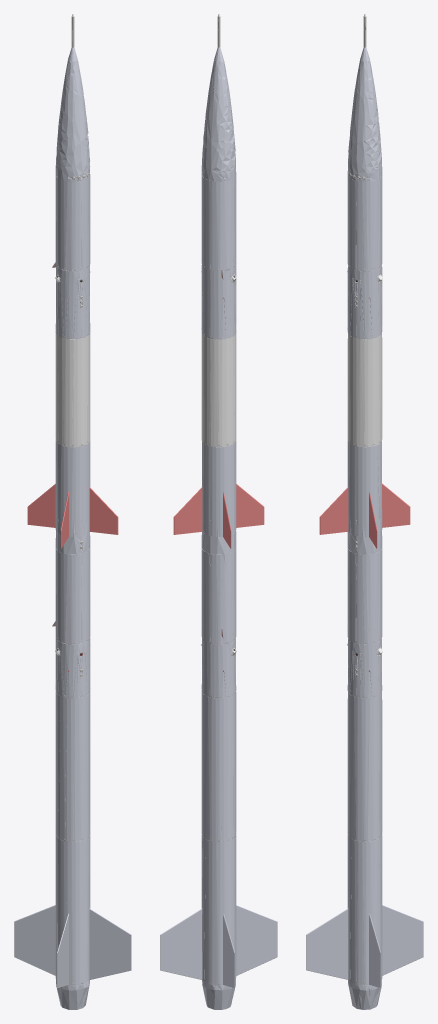
Rendered from hemera-v2.glb.
The picture shows the model from 3 angles, left to right: view 1: azimuth 30°, elevation 25°; view 2: azimuth 150°, elevation 25°; view 3: azimuth 330°, elevation 25°; orthographic projection.
Parts seen in each view (by area): view 1: geometry_3, geometry_10, geometry_19; view 2: geometry_3, geometry_10, geometry_19; view 3: geometry_3, geometry_10, geometry_19.
Boxes of the visible parts, bbox=[...] form: geometry_3: bbox=[14, 47, 131, 1009]; geometry_10: bbox=[55, 271, 90, 655]; geometry_19: bbox=[27, 484, 118, 548]; geometry_3: bbox=[160, 47, 277, 1009]; geometry_10: bbox=[201, 271, 236, 655]; geometry_19: bbox=[173, 484, 264, 548]; geometry_3: bbox=[306, 47, 423, 1009]; geometry_10: bbox=[347, 271, 382, 655]; geometry_19: bbox=[319, 483, 410, 548].
Size of the model in its own units: 0.4342 by 5.52 by 0.4342.
